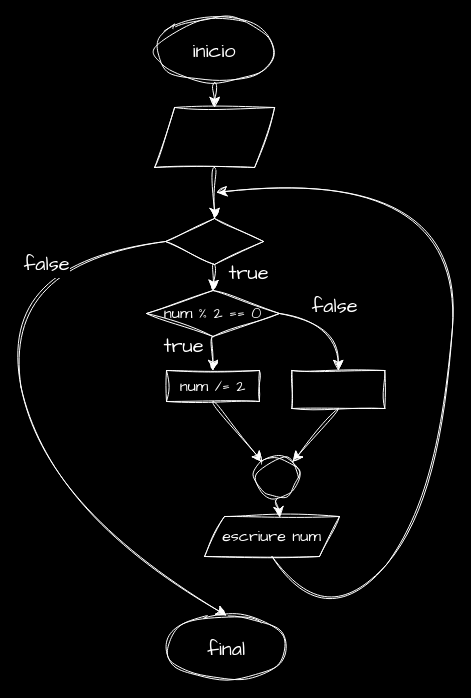
The diagram is 471 pixels wide and 698 high, and some of its shapes have lost their labels. Each missing label, with the centre of its shape:
llegir num: the point at 214,137
num *= 3 num += 1: the point at 338,389
num > 1: the point at 214,241
